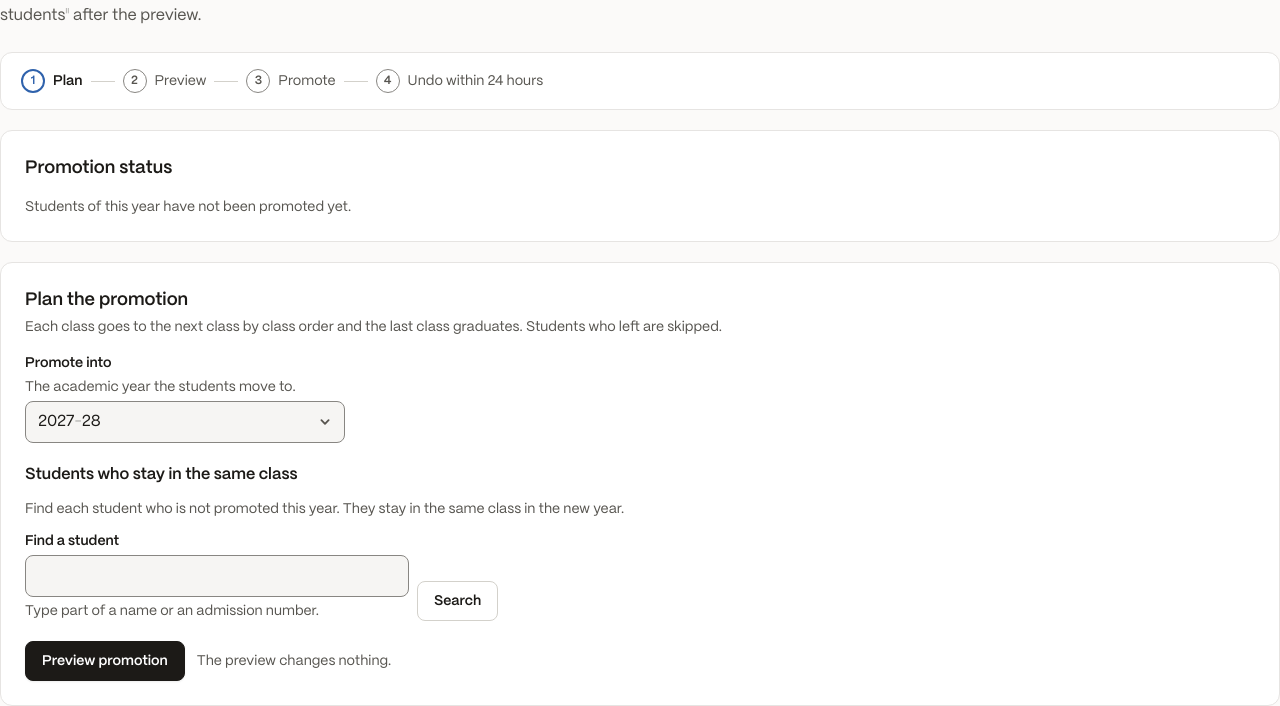
Test: promotions screen (FR-TEN-011, US-202 AC2) › explains nothing_to_promote on commit in plain language
(page scrolled)
Click the button "Preview promotion". click: (105, 661)
box: left=25, top=641, right=185, bottom=681
(page scrolled)
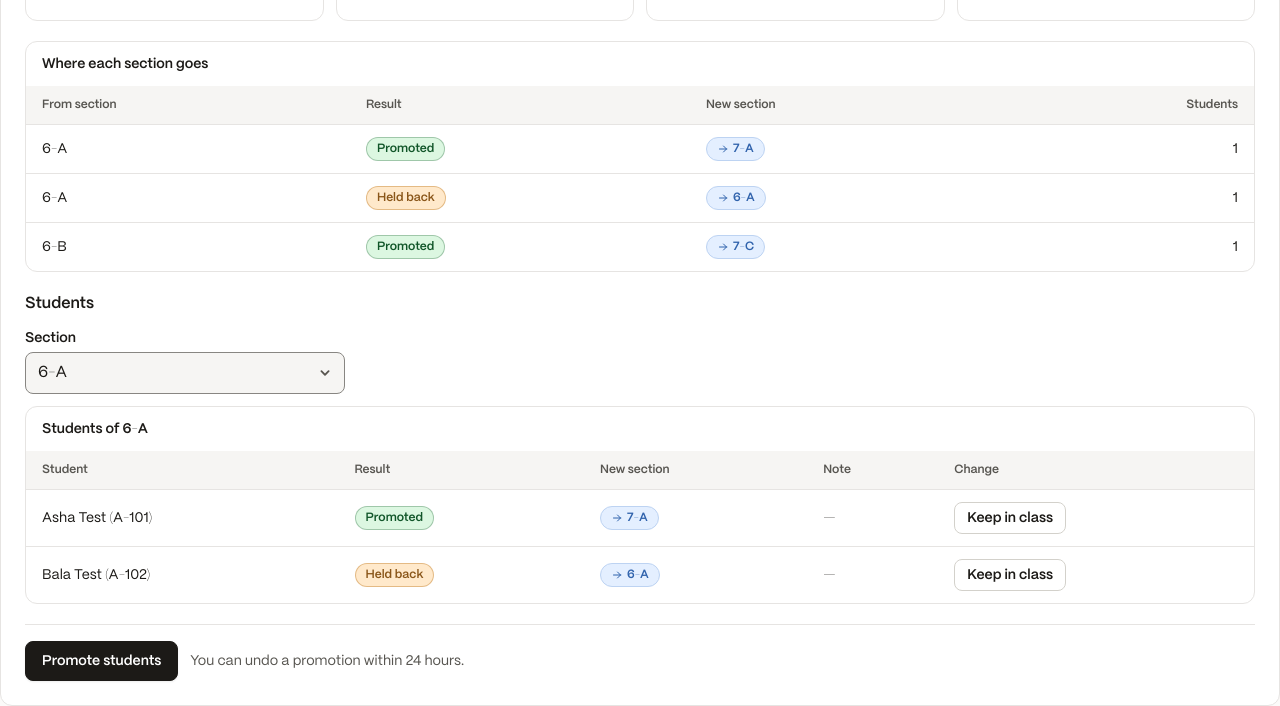
Click the button "Promote students". click: (102, 661)
box: left=25, top=641, right=178, bottom=681
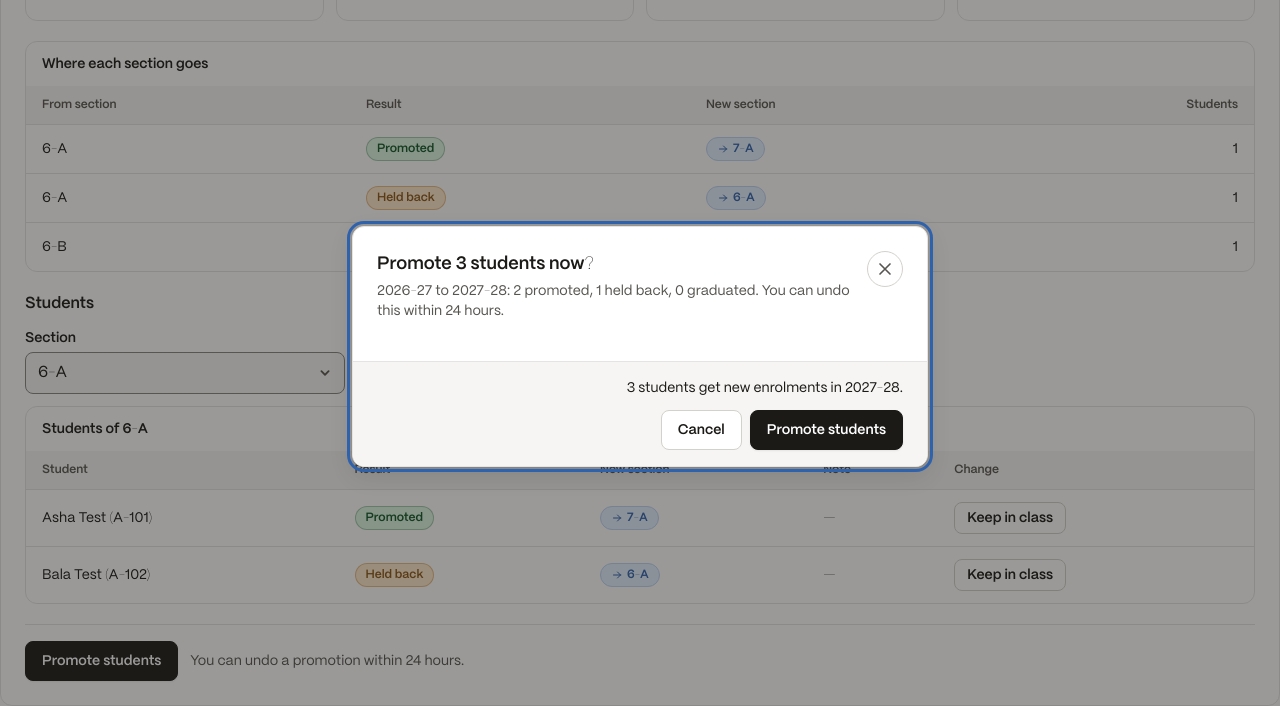
Click the button "Promote students" below "Promote 3 students now?". click: (826, 430)
box: left=750, top=410, right=903, bottom=450
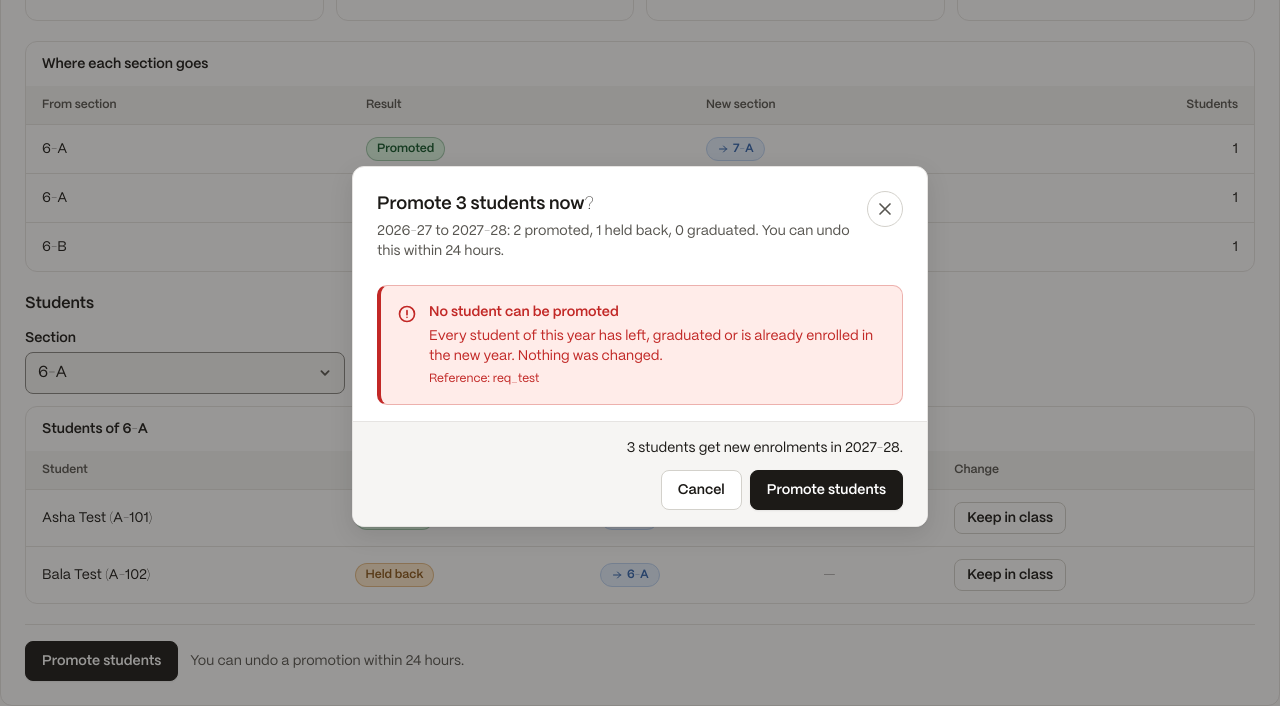
Expected: the text "No student can be promoted" is shown, left=429, top=304, right=619, bottom=318
